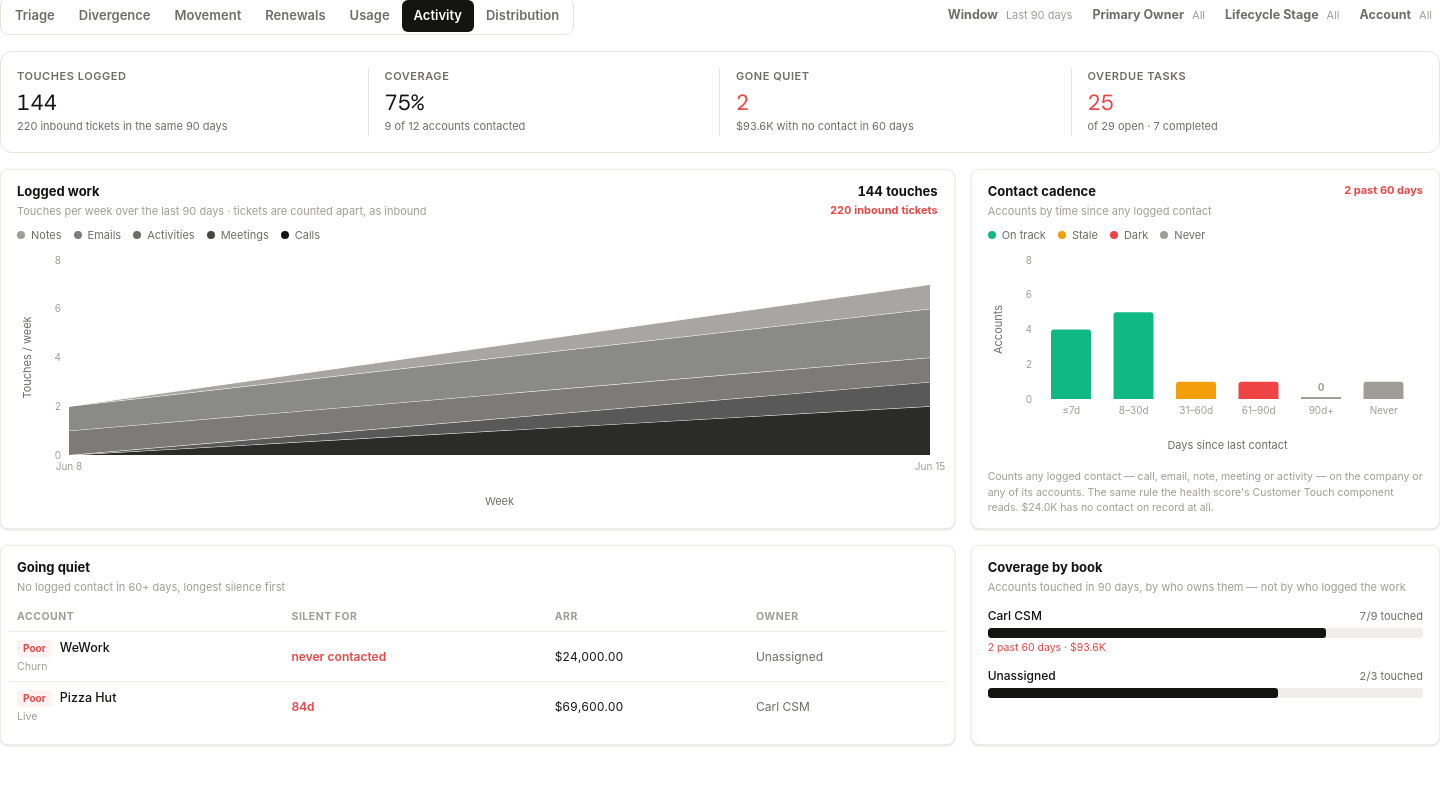
Activity Tracking drill › opens the gone-quiet drill against the server, carrying the window
The image size is (1440, 807).
Click the button with aria-label "Gone quiet 2, show accounts": point(773, 76) 732,64 -> 1050,138
(page scrolled)
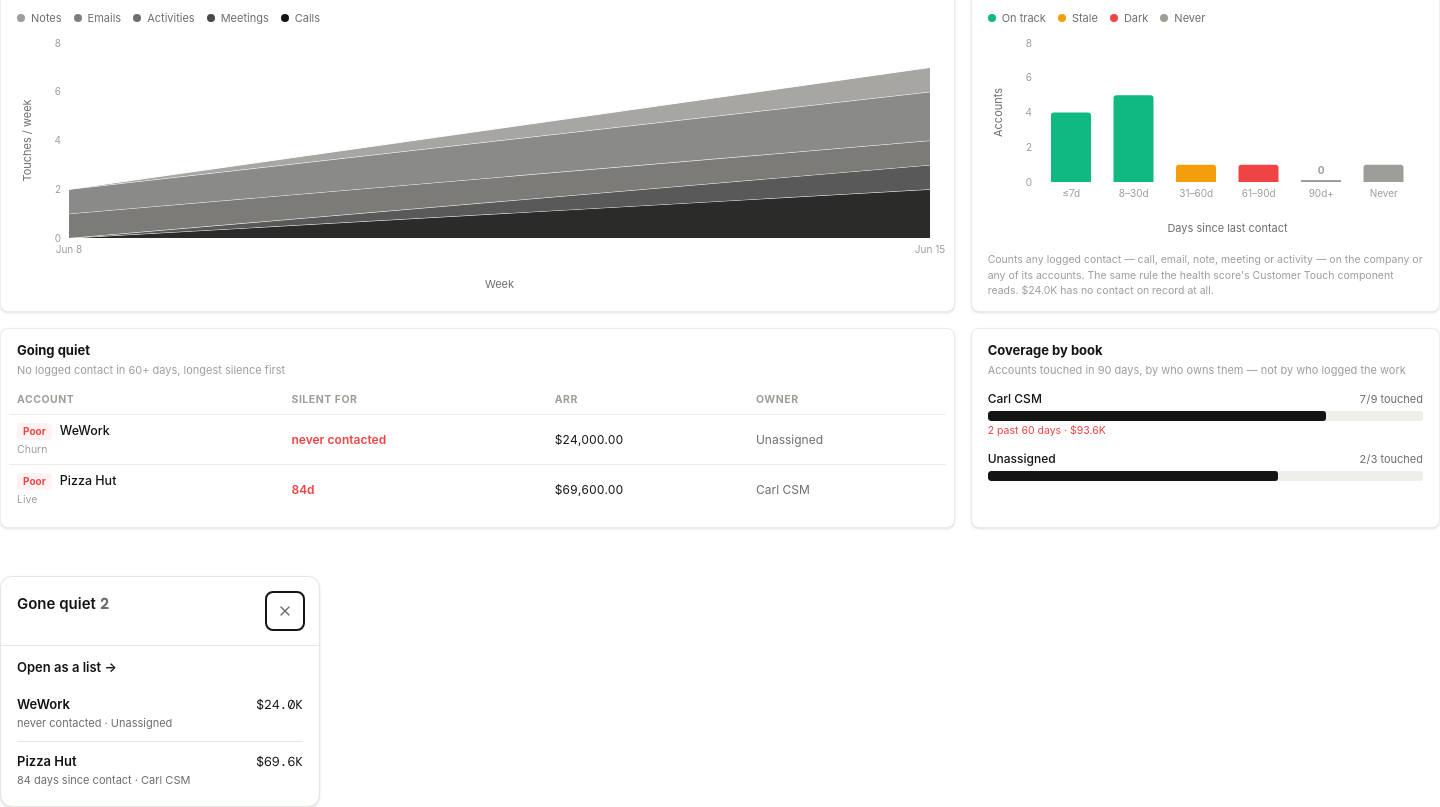
Result: the link "WeWork" is shown at 17,696 -> 70,712
Result: the text "never contacted" is shown at 17,716 -> 102,730
Result: the link "Pizza Hut" is shown at 17,753 -> 76,769
